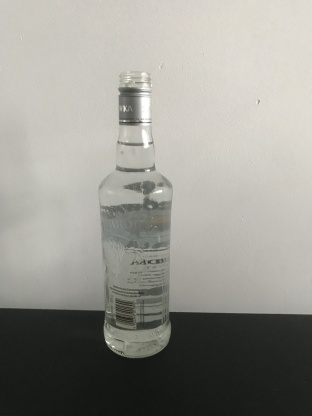nakretka: (116, 68, 153, 127)
